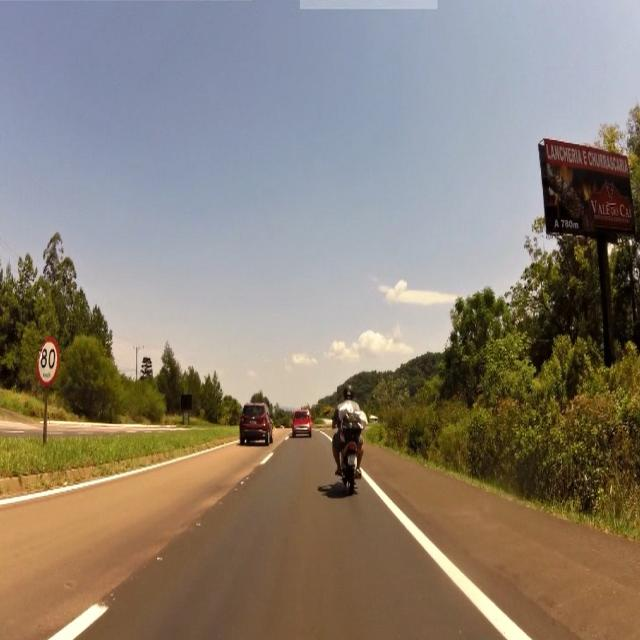R-19: (39, 338, 58, 384)
